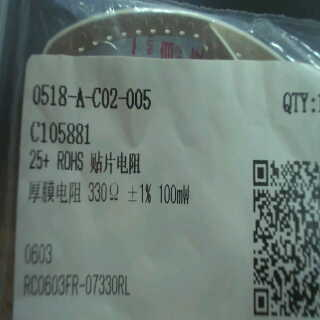330R: (86, 178, 122, 206)
